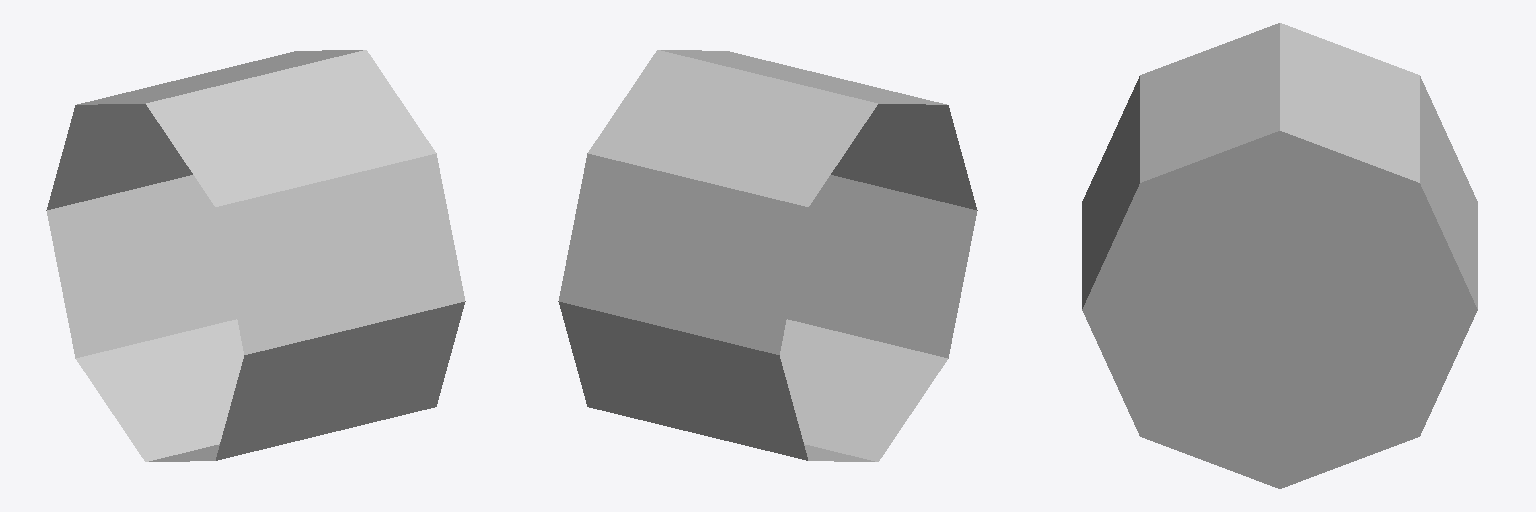
The model's file is WheelFrontL.obj.
3 renders of one model, left to right at view 1: azimuth 30°, elevation 25°; view 2: azimuth 150°, elevation 25°; view 3: azimuth 270°, elevation 25°, orthographic.
Parts seen in each view (by area): view 1: WheelFrontL; view 2: WheelFrontL; view 3: WheelFrontL.
Part boxes in pixels (x1,y1,x2,y2): WheelFrontL: (46, 50, 465, 461); WheelFrontL: (558, 50, 977, 461); WheelFrontL: (1082, 23, 1477, 488).
Size of the model in its own units: 0.7999 by 1.24 by 1.24.